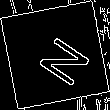N_NW: (22, 24, 88, 86)
